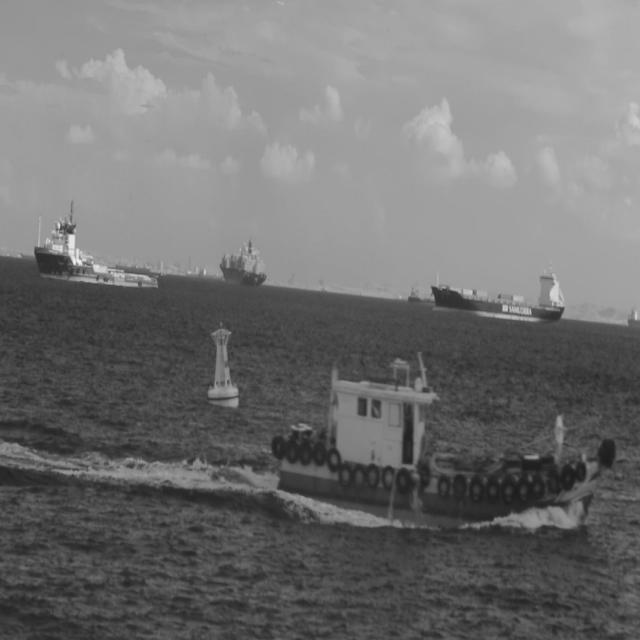buoy: (207, 317, 240, 412)
ship: (269, 346, 616, 534), (32, 197, 160, 290), (430, 257, 566, 325), (218, 233, 268, 287), (408, 280, 434, 304), (115, 260, 150, 274), (196, 264, 224, 281), (152, 270, 166, 278)
